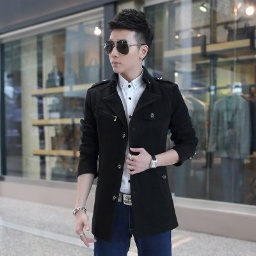face: (105, 9, 153, 75)
